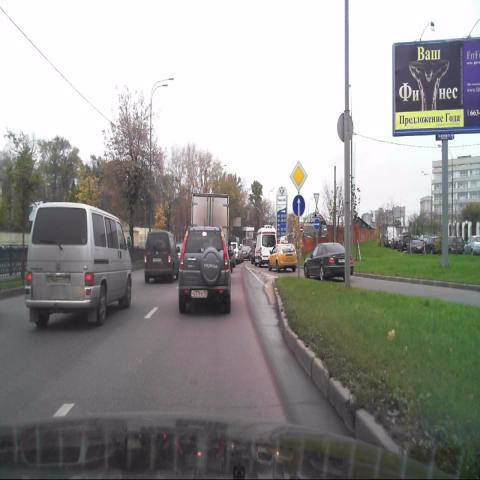4_1_1: (292, 194, 305, 217)
